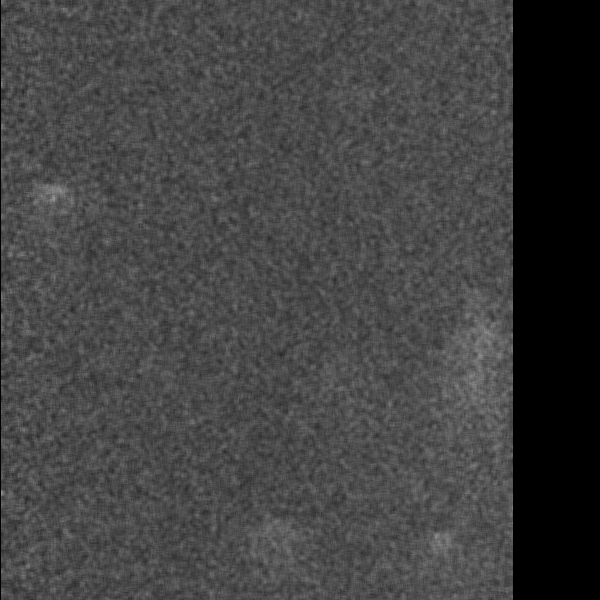spark: (417, 528, 476, 570), (40, 181, 59, 216), (267, 535, 283, 553)
